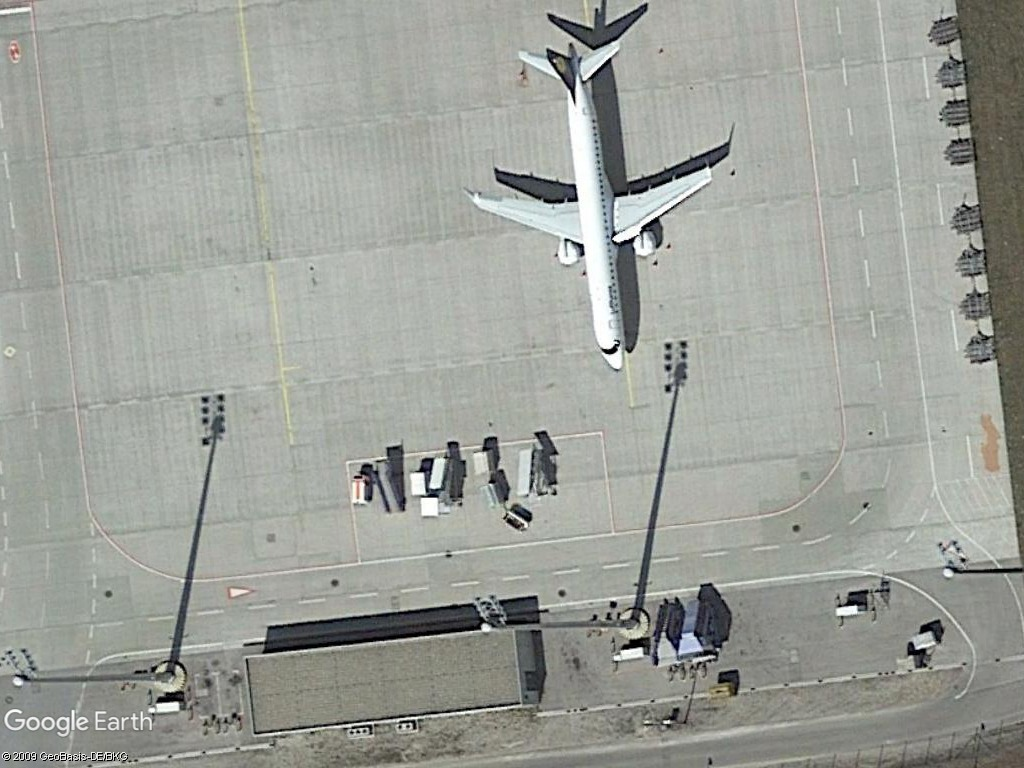airliner: (466, 33, 715, 387)
stairtruck: (368, 456, 411, 519)
